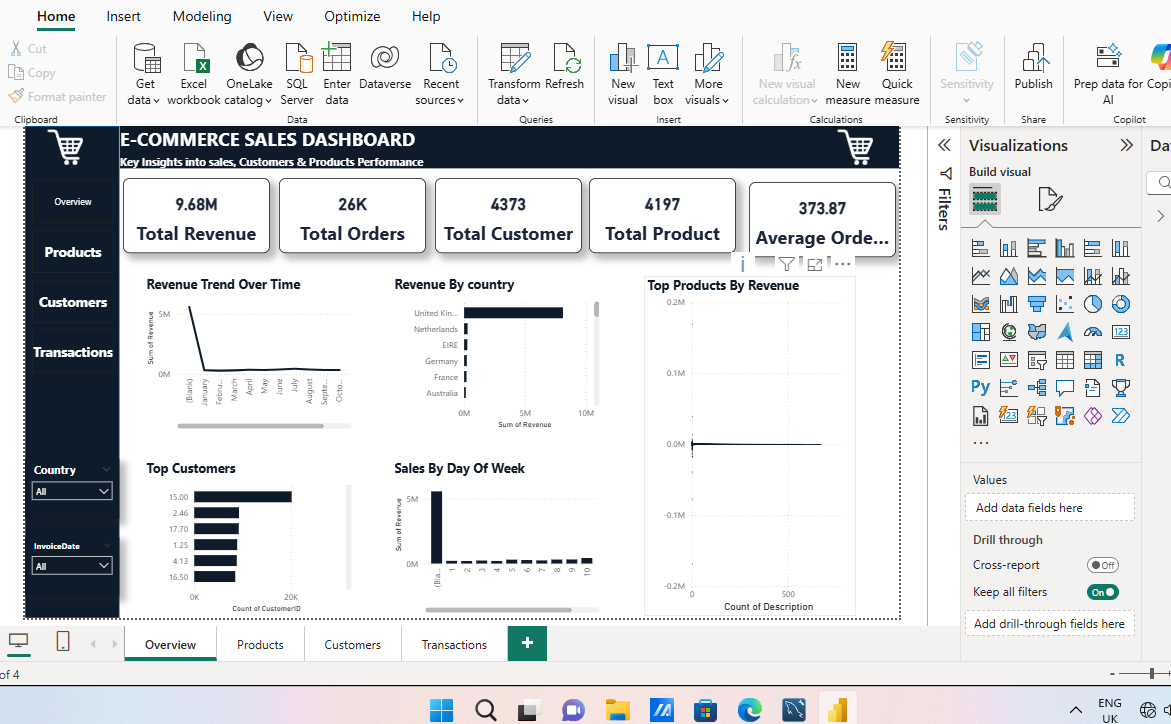

The dashboard page shown, as its layout file describes it:
{"tool":"powerbi","page":{"name":"Overview ","canvas":[1280,720],"ordinal":0},"visuals":[{"type":"shape","box":[0,0,138.3,720],"z":0},{"type":"shape","title":"E-COMMERCE SALES DASHBOARD","box":[138.3,0,1141.7,61.7],"z":1000},{"type":"card","fields":{"Values":["E-commerce .Total Revenue"]},"box":[143.3,76.7,215,110],"z":2000},{"type":"card","fields":{"Values":["E-commerce .Total Orders"]},"box":[371.7,76.7,215,110],"z":3000},{"type":"card","fields":{"Values":["E-commerce .Total Customer"]},"box":[600,76.7,215,110],"z":4000},{"type":"card","fields":{"Values":["E-commerce .Total Product"]},"box":[825,76.7,215,110],"z":5000},{"type":"card","fields":{"Values":["E-commerce .Average Order Value"]},"box":[1060,81.7,215,110],"z":6000},{"type":"lineChart","title":"Revenue Trend Over Time","fields":{"Category":["E-commerce .InvoiceDate.Variation.Date Hierarchy.Month"],"Y":["Sum(E-commerce .Revenue)"]},"box":[173.3,218.3,310,230],"z":7000},{"type":"barChart","title":"Revenue By country","fields":{"Y":["Sum(E-commerce .Revenue)"],"Category":["E-commerce .Country"]},"box":[535,218.3,310,230],"z":8000},{"type":"clusteredBarChart","title":"Top Products By Revenue","fields":{"Category":["E-commerce .Revenue"],"Y":["Count(E-commerce .Description)"]},"box":[905.7,220,310,497.1],"z":9000},{"type":"barChart","title":"Top Customers ","fields":{"Category":["E-commerce .Revenue"],"Y":["CountNonNull(E-commerce .CustomerID)"]},"box":[172.7,487.3,310,230],"z":10000},{"type":"clusteredColumnChart","title":"Sales By Day Of Week","fields":{"Y":["Sum(E-commerce .Revenue)"],"Category":["E-commerce .InvoiceDate.Variation.Date Hierarchy.Day"]},"box":[535,486.7,310,230],"z":11000},{"type":"slicer","fields":{"Values":["E-commerce .Country"]},"box":[0,486.7,138.3,86.7],"z":12000},{"type":"slicer","fields":{"Values":["E-commerce .InvoiceDate"]},"box":[0,601.7,138.3,85],"z":13000},{"type":"pageNavigator","box":[10,78.3,120,283.3],"z":14000},{"type":"image","box":[1183.3,0,61.7,61.7],"z":15000},{"type":"image","box":[28.3,0,61.7,61.7],"z":16000}]}

Visuals, with their boxes on the page's 1280x720 design canvas (x1, y1, x2, y2). These are canvas units, not pixel positions in the 1171x724 screenshot, which may show the page scaled, cropped or inside an application window:
shape: 0 0 138 720
"E-COMMERCE SALES DASHBOARD" shape: 138 0 1280 62
card - E-commerce .Total Revenue: 143 77 358 187
card - E-commerce .Total Orders: 372 77 587 187
card - E-commerce .Total Customer: 600 77 815 187
card - E-commerce .Total Product: 825 77 1040 187
card - E-commerce .Average Order Value: 1060 82 1275 192
"Revenue Trend Over Time" lineChart: 173 218 483 448
"Revenue By country" barChart: 535 218 845 448
"Top Products By Revenue" clusteredBarChart: 906 220 1216 717
"Top Customers " barChart: 173 487 483 717
"Sales By Day Of Week" clusteredColumnChart: 535 487 845 717
slicer - E-commerce .Country: 0 487 138 573
slicer - E-commerce .InvoiceDate: 0 602 138 687
pageNavigator: 10 78 130 362
image: 1183 0 1245 62
image: 28 0 90 62
